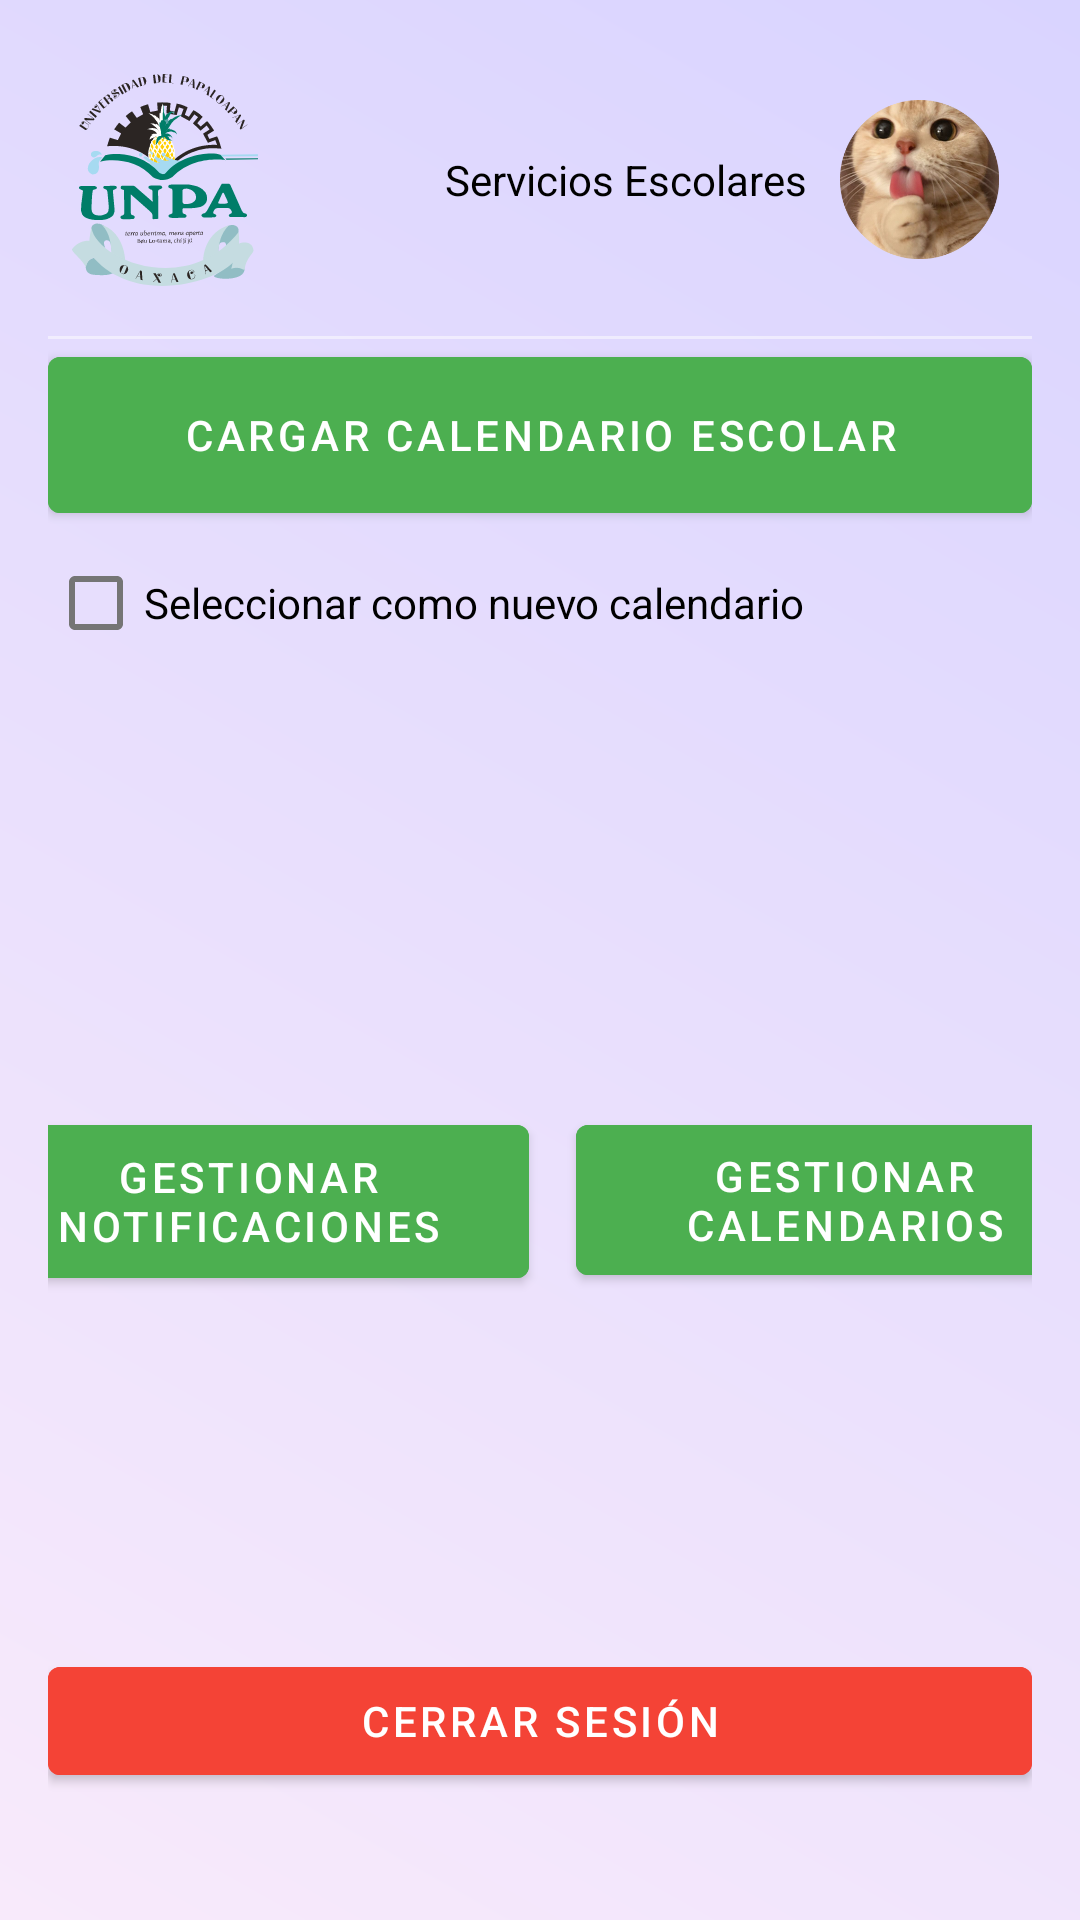

Point at icon controls on the screen. Image size 1080×1920, points as (x,y).
perfil: (919,179)
